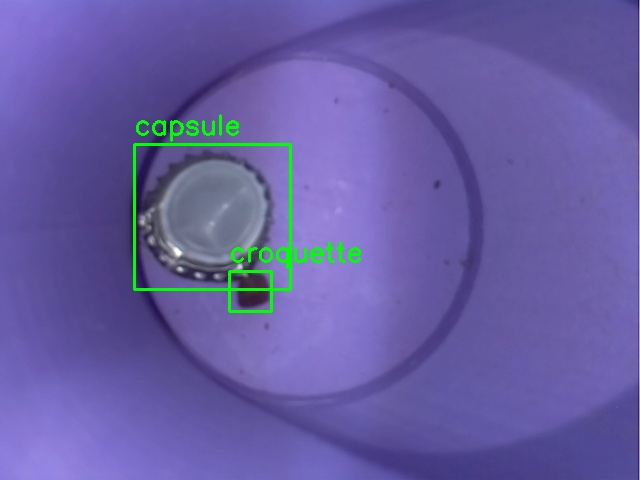capsule: (134, 144, 290, 289)
croquette: (229, 271, 271, 311)
